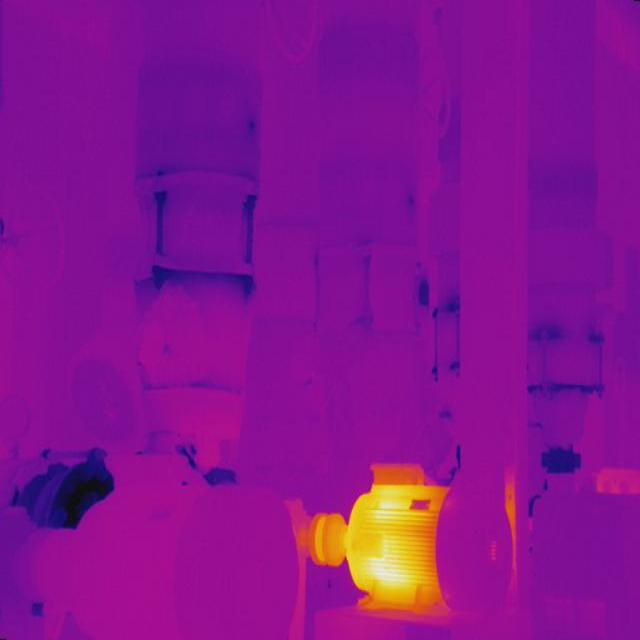leakage: (23, 446, 113, 530)
